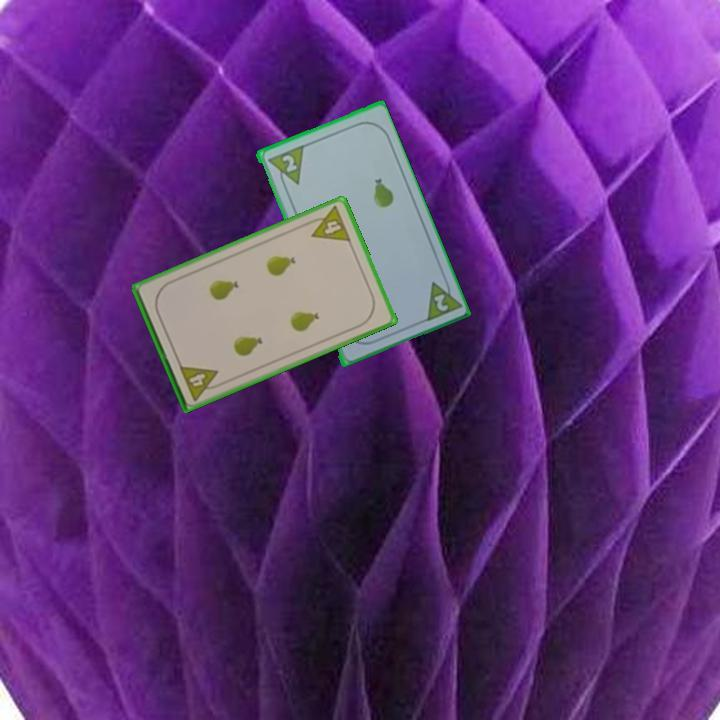2p: (278, 151, 300, 175), (430, 290, 451, 314)
4p: (303, 202, 354, 245), (176, 361, 225, 403)
